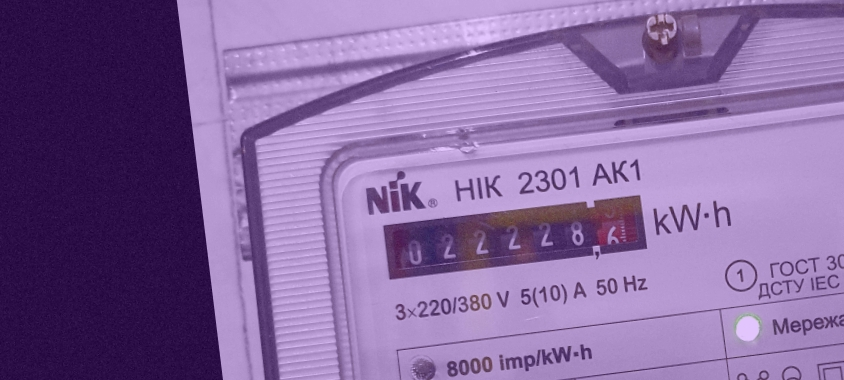0: (404, 235, 423, 266)
2: (436, 229, 458, 260), (470, 225, 490, 256), (535, 218, 555, 248), (502, 221, 522, 250)
5: (599, 198, 617, 220)
6: (602, 221, 621, 244)
8: (567, 217, 585, 246)
screen: (372, 180, 657, 289)
